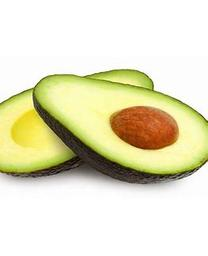avocado: (31, 72, 207, 185), (0, 69, 156, 179)
